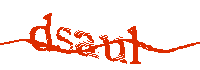a: (74, 30, 100, 59)
d: (30, 12, 52, 52)
l: (127, 26, 142, 66)
s: (55, 26, 73, 53)
u: (101, 34, 128, 65)
